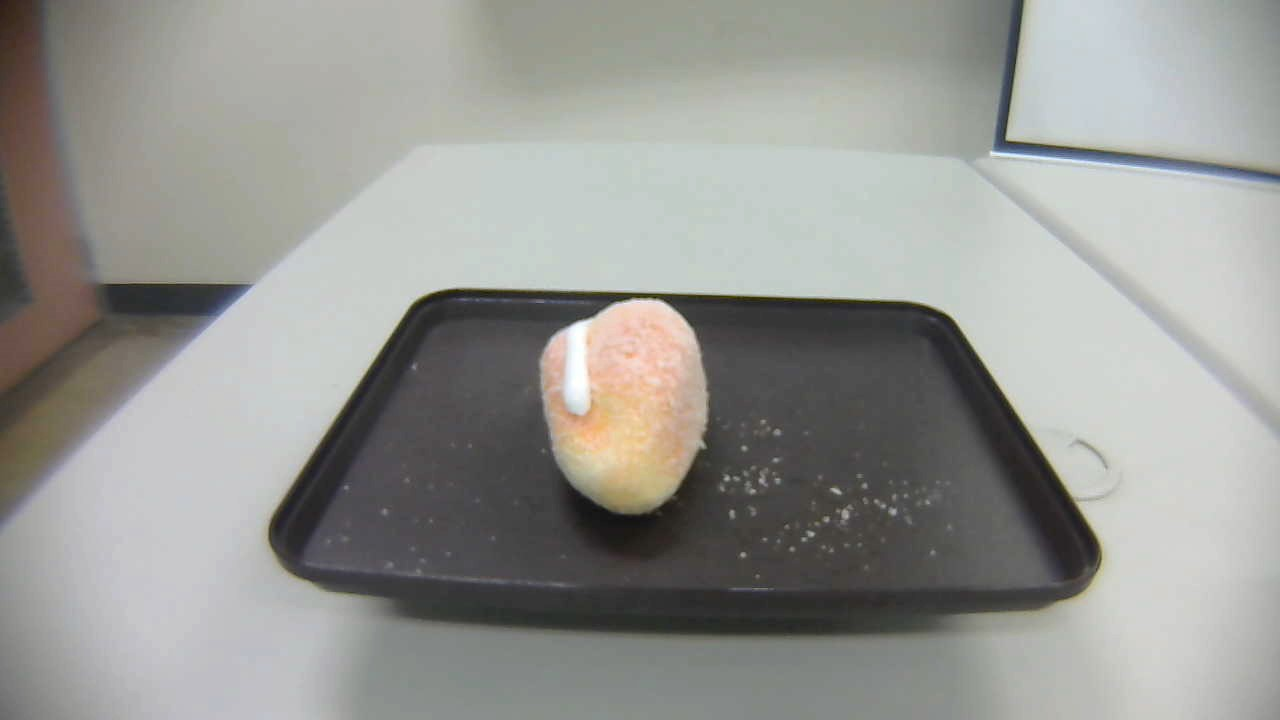coconut: (540, 297, 711, 519)
